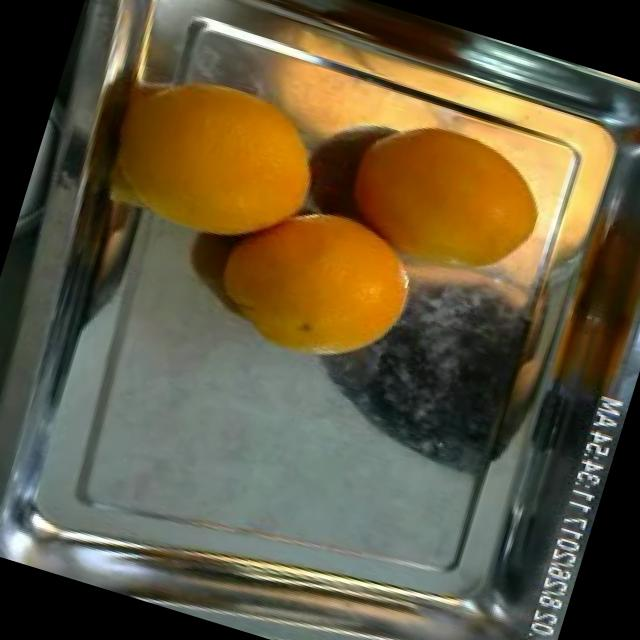Fruit: (203, 176, 442, 396)
